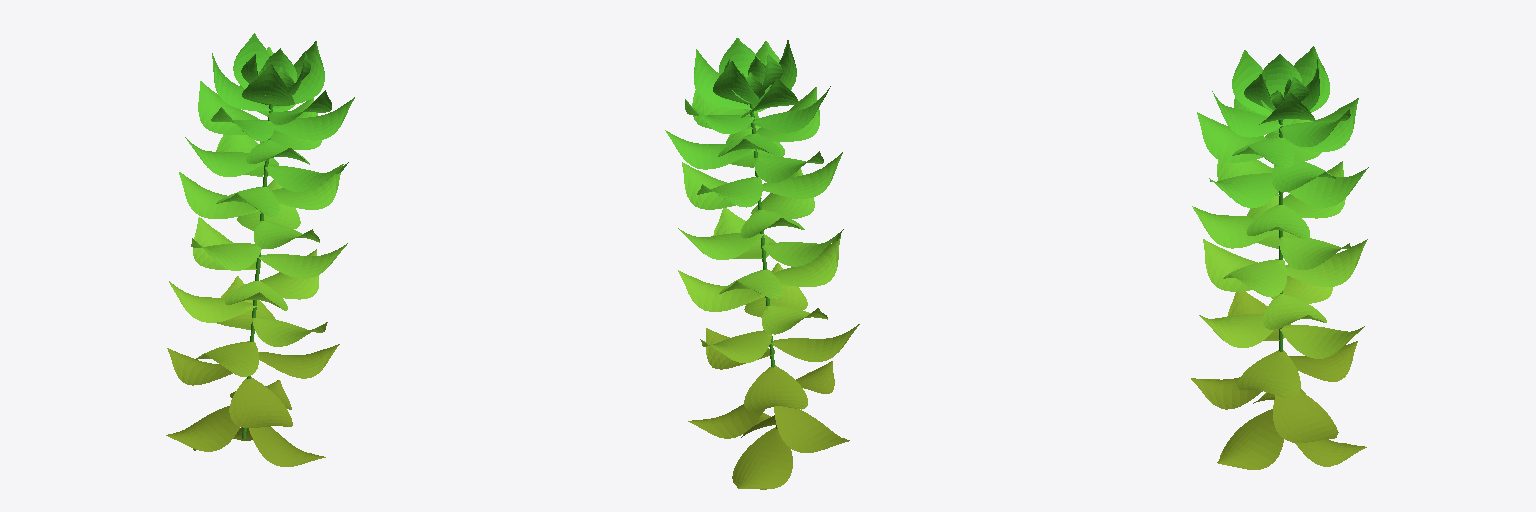
The model's file is lsystem.obj.obj.
3 views of the same model, side by side, from view 1: azimuth 30°, elevation 25°; view 2: azimuth 150°, elevation 25°; view 3: azimuth 270°, elevation 25° (orthographic).
Parts seen in each view (by area): view 1: group9, group5, group37, group3, group21, group55, group53, group13, group29, group15, group67, group39 (+20 smaller); view 2: group1, group5, group11, group23, group25, group41, group49, group15, group17, group33, group7, group39 (+22 smaller); view 3: group3, group7, group13, group17, group27, group51, group35, group19, group43, group45, group33, group29 (+20 smaller).
Boxes of the visible parts, box(x1,y1,x2,y2) form: group9: box(229, 377, 292, 427); group5: box(166, 406, 239, 451); group37: box(179, 172, 259, 218); group3: box(249, 427, 325, 466); group21: box(169, 281, 256, 322); group55: box(274, 97, 354, 140); group53: box(198, 81, 259, 134); group13: box(259, 344, 339, 378); group29: box(258, 243, 347, 278); group15: box(195, 341, 258, 376); group67: box(242, 64, 294, 105); group39: box(272, 164, 343, 209); group1: box(732, 427, 792, 489); group5: box(774, 406, 849, 452); group11: box(744, 365, 807, 411); group23: box(678, 270, 764, 311); group25: box(773, 236, 840, 286); group41: box(763, 152, 842, 198); group49: box(665, 130, 755, 169); group15: box(770, 324, 859, 361); group17: box(700, 330, 771, 362); group33: box(678, 228, 763, 259); group7: box(688, 404, 764, 438); group39: box(682, 162, 761, 209); group3: box(1217, 409, 1283, 469); group7: box(1273, 391, 1338, 442); group13: box(1237, 350, 1300, 397); group17: box(1280, 325, 1364, 358); group27: box(1286, 239, 1367, 286); group51: box(1197, 112, 1267, 162); group35: box(1192, 206, 1277, 248); group19: box(1199, 314, 1273, 347); group43: box(1288, 167, 1368, 207); group45: box(1209, 173, 1276, 207); group33: box(1279, 236, 1350, 269); group29: box(1223, 259, 1286, 296).
Bounding box in the file's own units: 7.64 × 17.28 × 6.79.